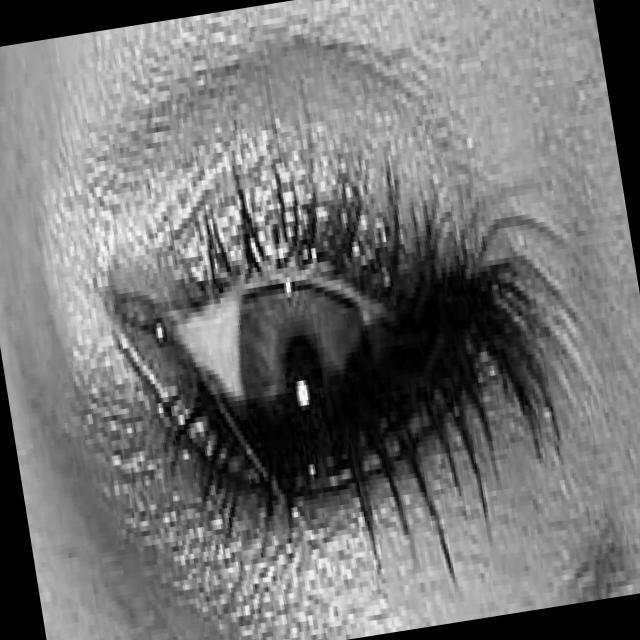Normal: (95, 189, 567, 531)
